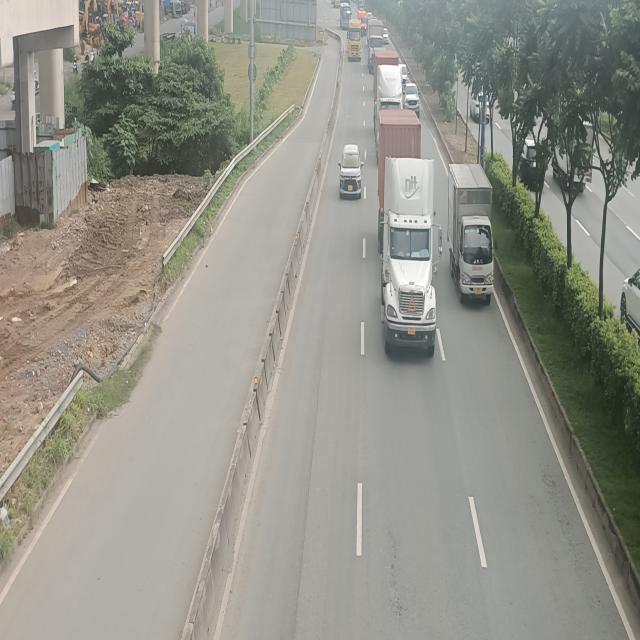car: (339, 145, 364, 199), (402, 80, 418, 113)
coach: (340, 2, 352, 29)
container: (378, 110, 442, 354), (373, 48, 402, 162), (347, 20, 362, 60)
truck: (448, 162, 498, 308), (368, 21, 384, 72)
van: (358, 10, 366, 34)
